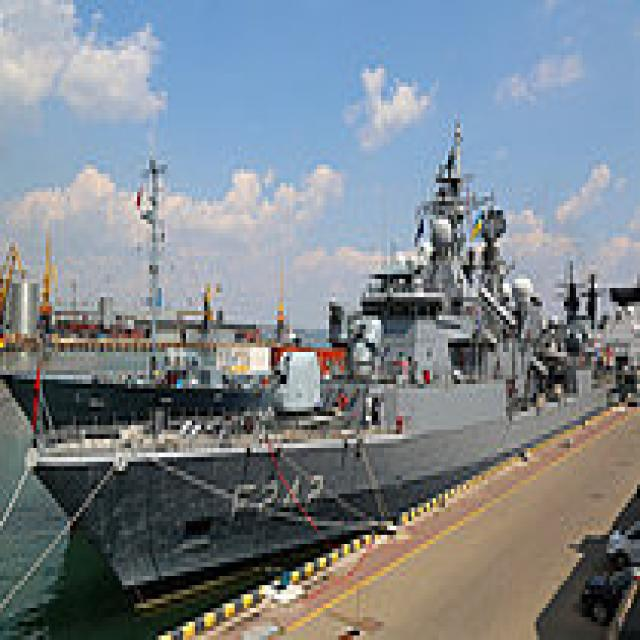Warship: (22, 110, 610, 612)
